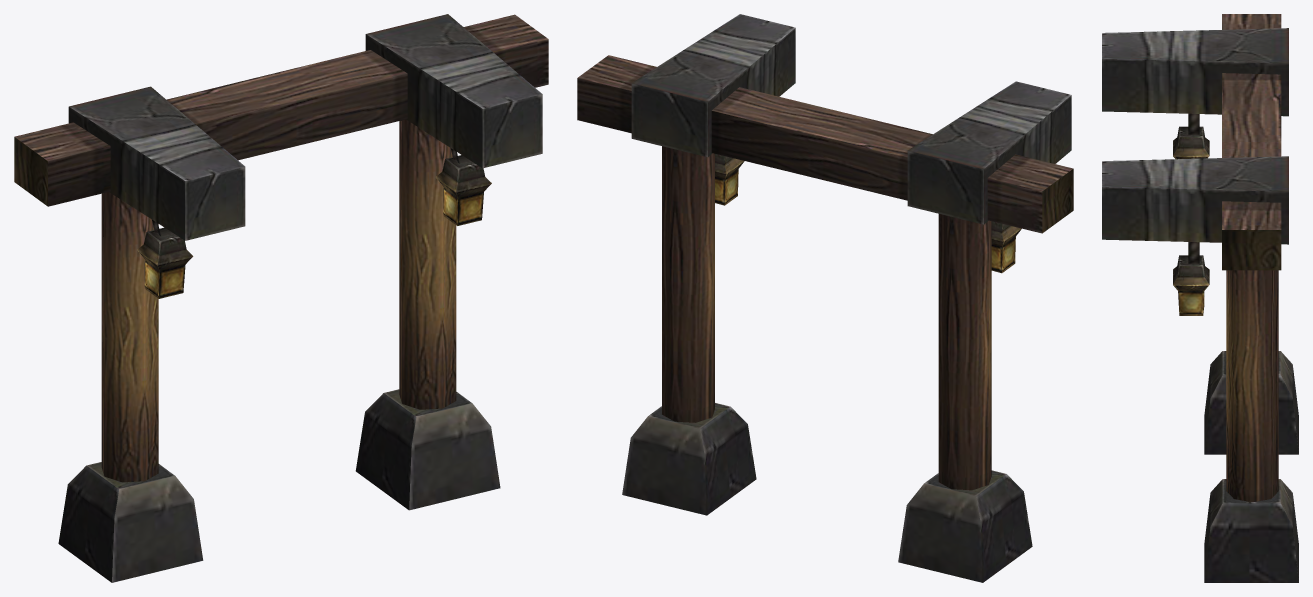
The model's file is Treasure_Light_03.FBX.
3 renders of one model, left to right at view 1: azimuth 30°, elevation 25°; view 2: azimuth 150°, elevation 25°; view 3: azimuth 270°, elevation 25°, orthographic. The views are drawn at different scales.
Visible parts, largest first — view 1: Treasure_Light_03; view 2: Treasure_Light_03; view 3: Treasure_Light_03.
Part boxes in pixels (x1=…): Treasure_Light_03: x1=14, y1=14, x2=548, y2=582; Treasure_Light_03: x1=577, y1=14, x2=1073, y2=582; Treasure_Light_03: x1=1102, y1=14, x2=1298, y2=582.
Size of the model in its own units: 8.82 by 7.41 by 3.39.
